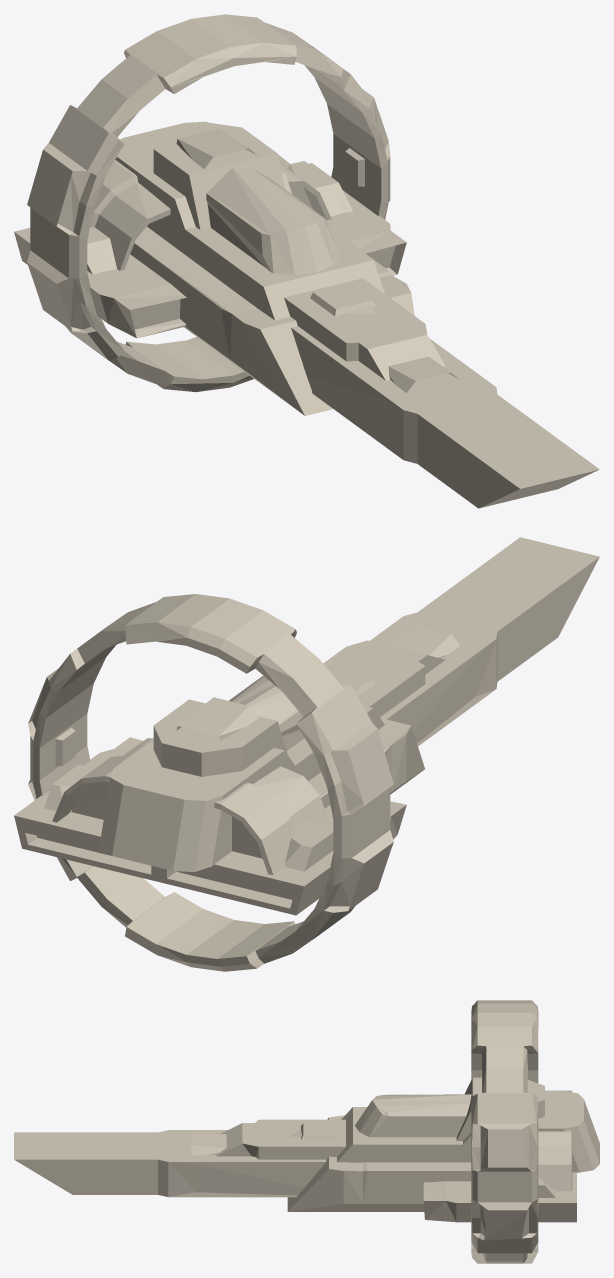
The model's file is ship_zenith.glb.
The picture shows the model from 3 angles, top to bottom: view 1: azimuth 30°, elevation 25°; view 2: azimuth 150°, elevation 25°; view 3: azimuth 270°, elevation 25°; orthographic projection. The views are drawn at different scales.
Parts seen in each view (by area): view 1: S_Zenith; view 2: S_Zenith; view 3: S_Zenith.
Boxes of the visible parts, <box> form: S_Zenith: <box>14,14,599,508</box>; S_Zenith: <box>14,537,599,971</box>; S_Zenith: <box>14,1000,599,1263</box>.
Bounding box in the file's own units: 5.59 × 5.43 × 12.07.
